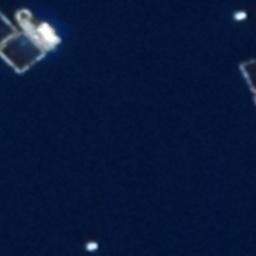square_solid: (1, 28, 49, 76)
